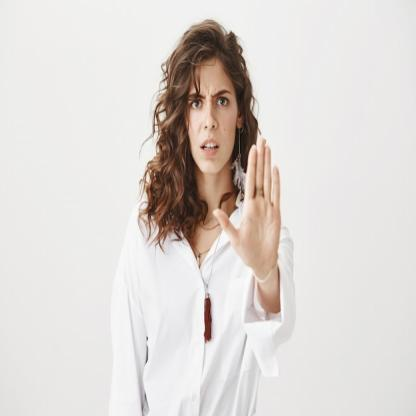stop: (211, 134, 283, 284)
